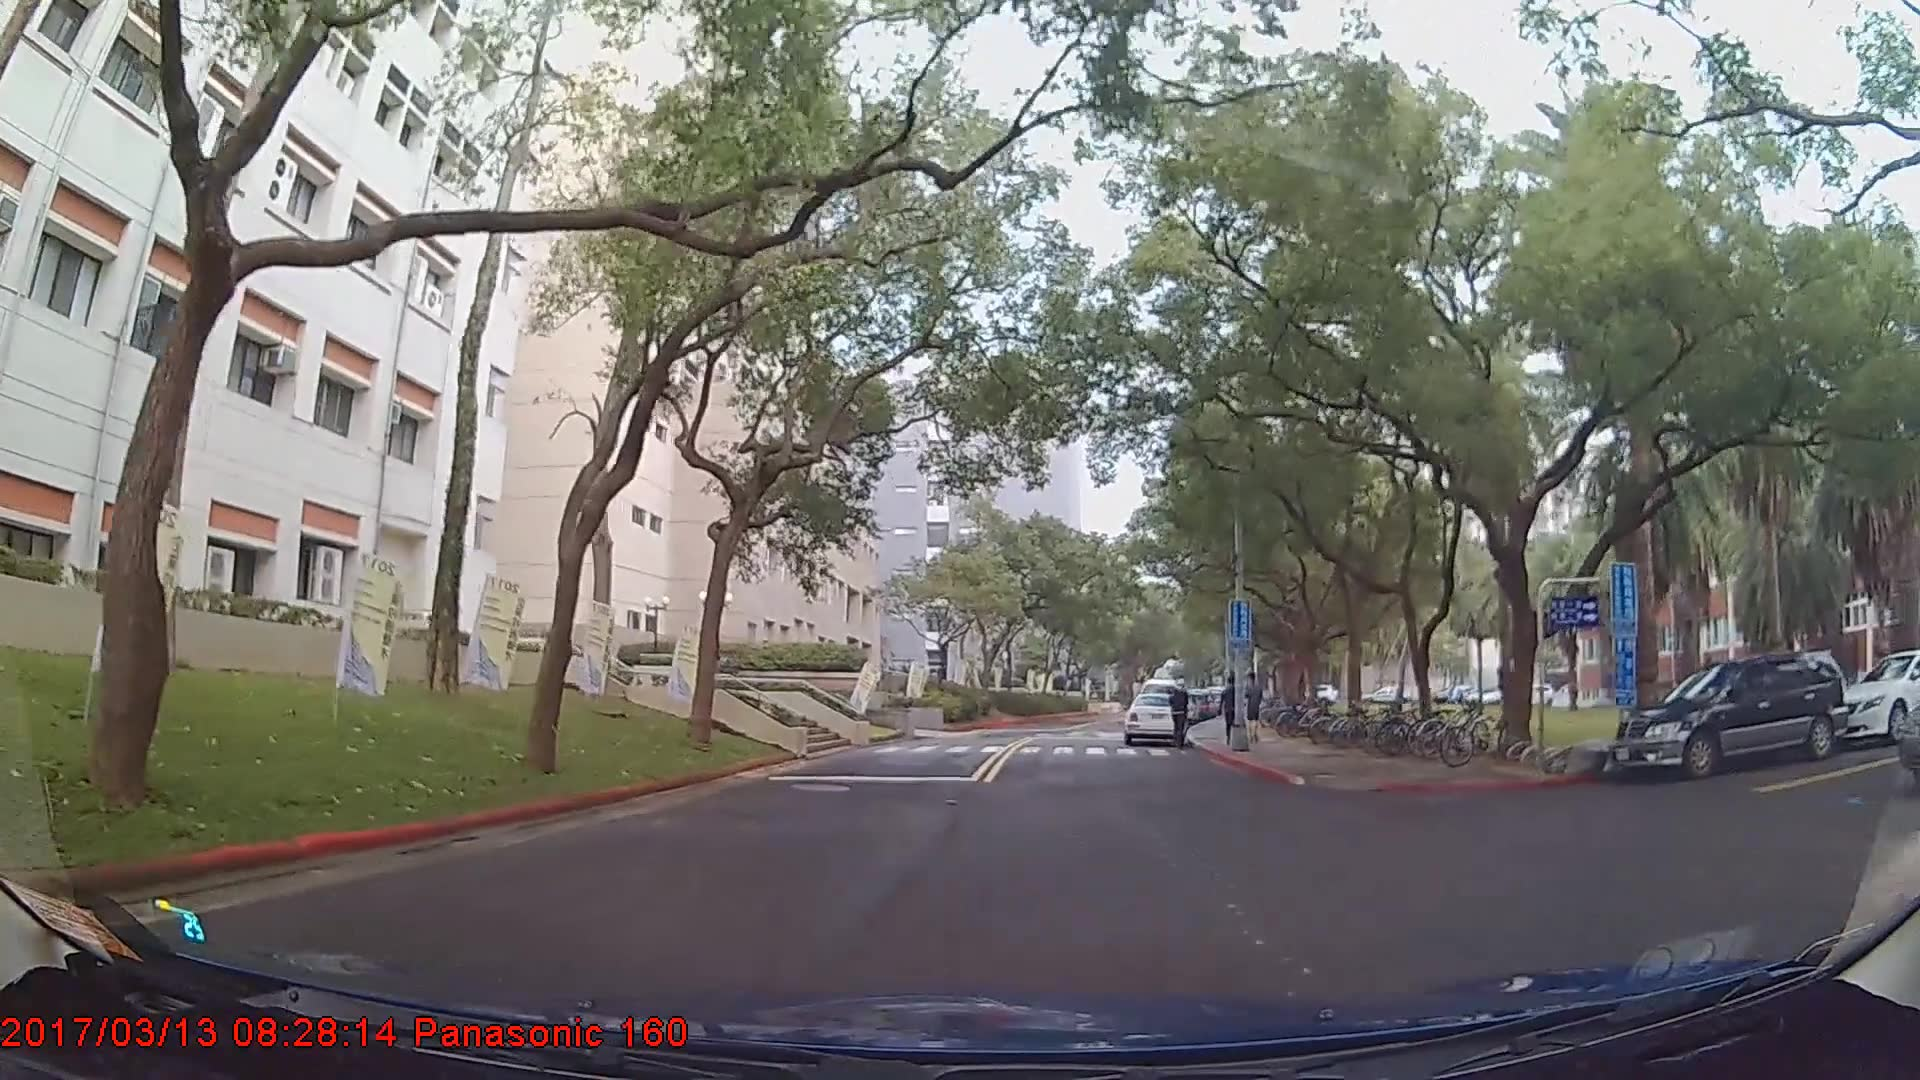pedestrian: (1219, 676, 1244, 747), (1166, 679, 1188, 752)
vehicle: (1609, 648, 1850, 783), (1836, 648, 1920, 743), (1120, 691, 1184, 743)
